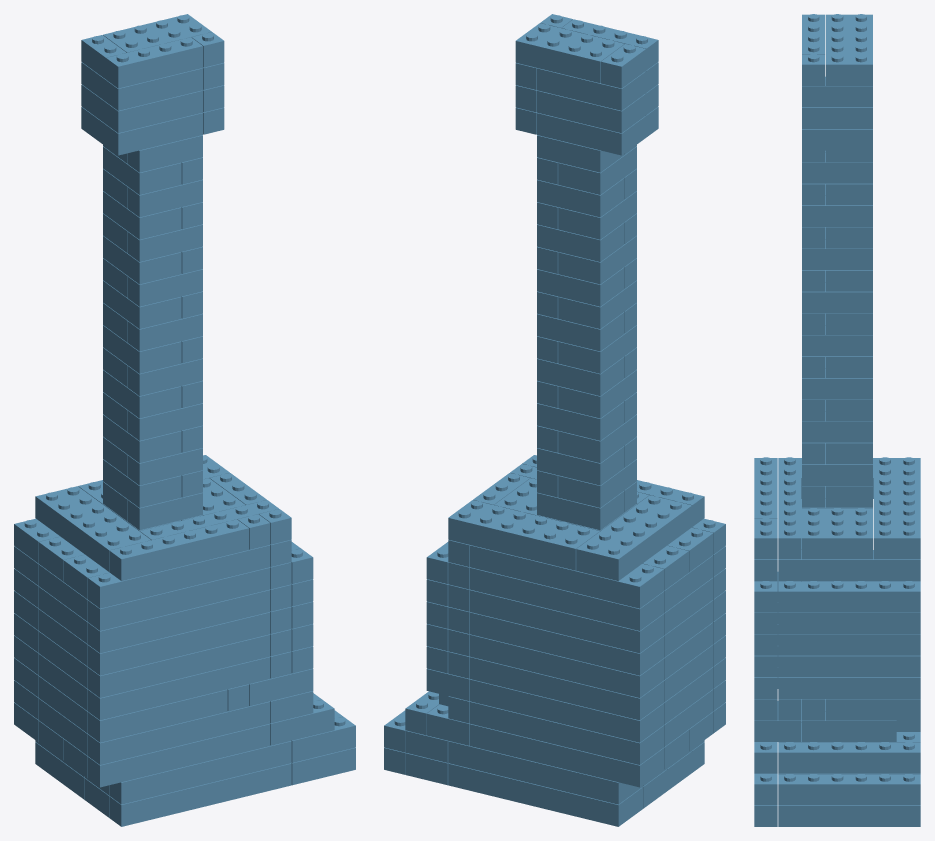
Rendered from 166_guitar_L1.glb.
3 views of the same model, side by side, from view 1: azimuth 30°, elevation 25°; view 2: azimuth 150°, elevation 25°; view 3: azimuth 270°, elevation 25° (orthographic). The views are drawn at different scales.
Bounding box in the file's own units: 11.98 × 33.13 × 6.98.
